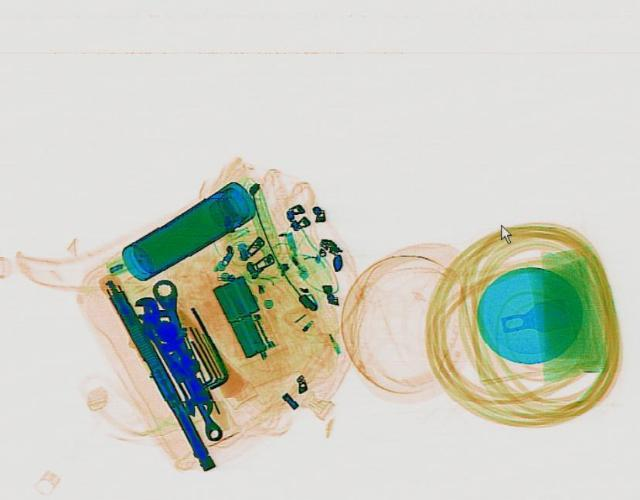Wrench: (126, 291, 230, 442)
